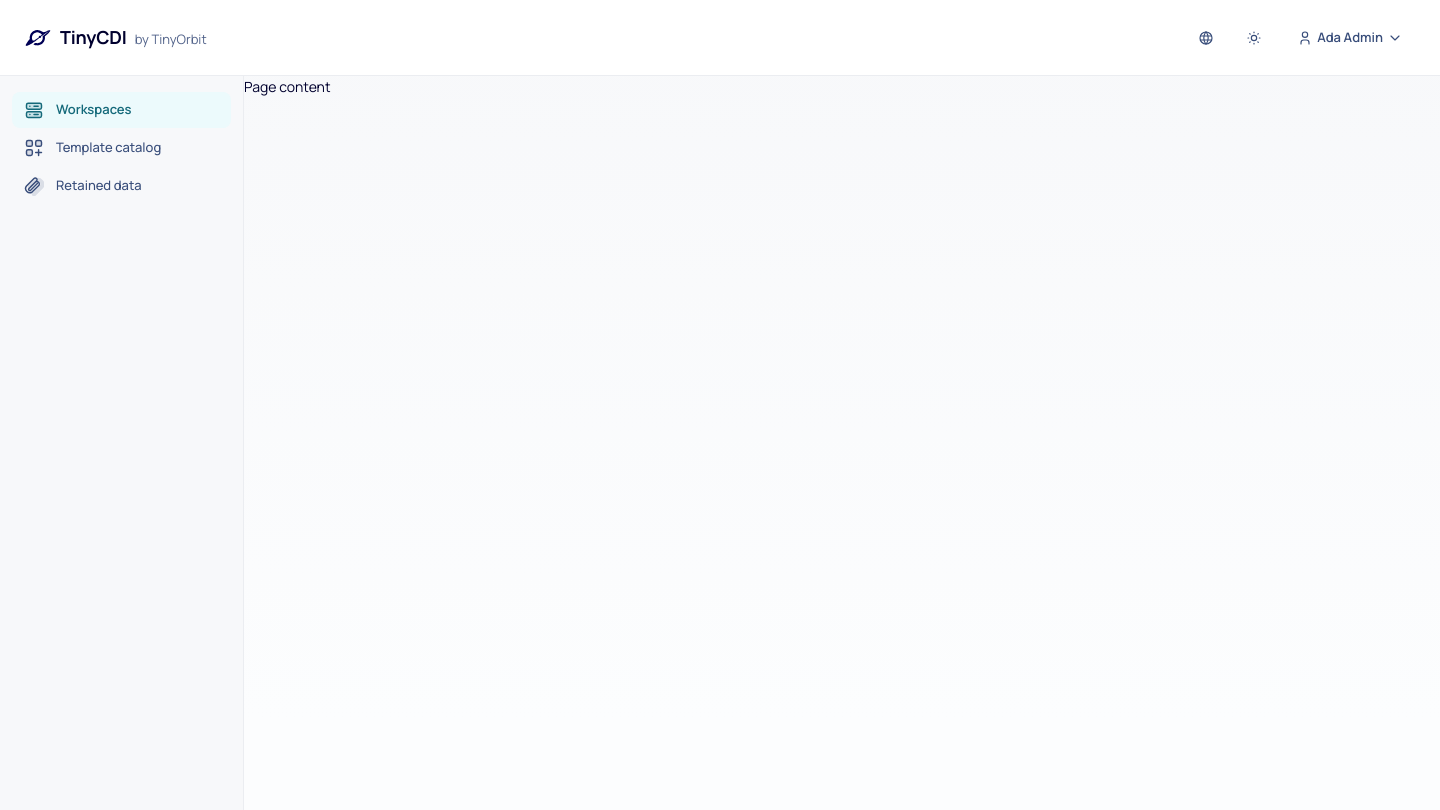
Test: user menu › a failed sign-out stays on the page and says so
Click the button "Ada Admin" at (1350, 38), box [1284,20,1416,56]
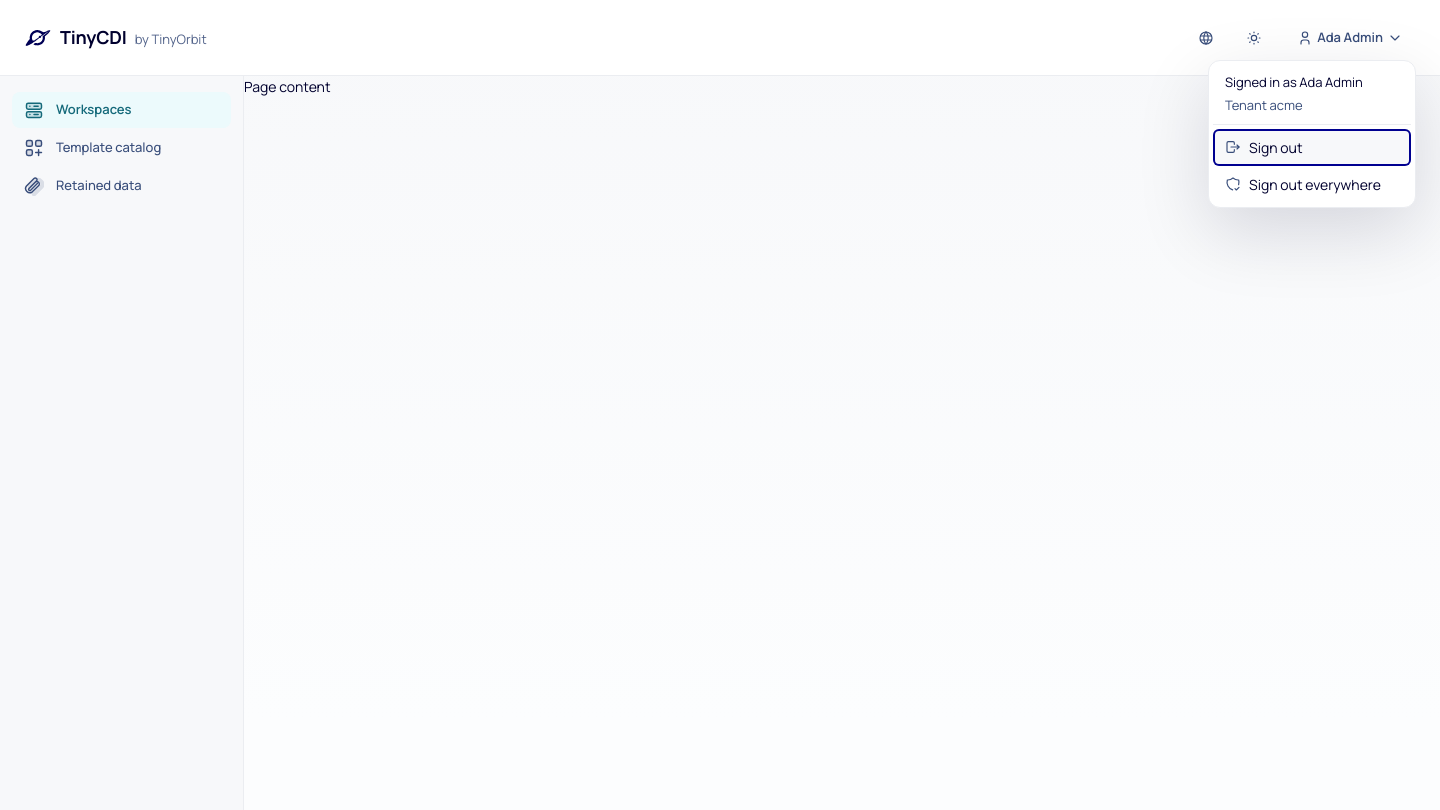
Click the menu item "Sign out" at (1312, 147), box [1213,128,1411,166]
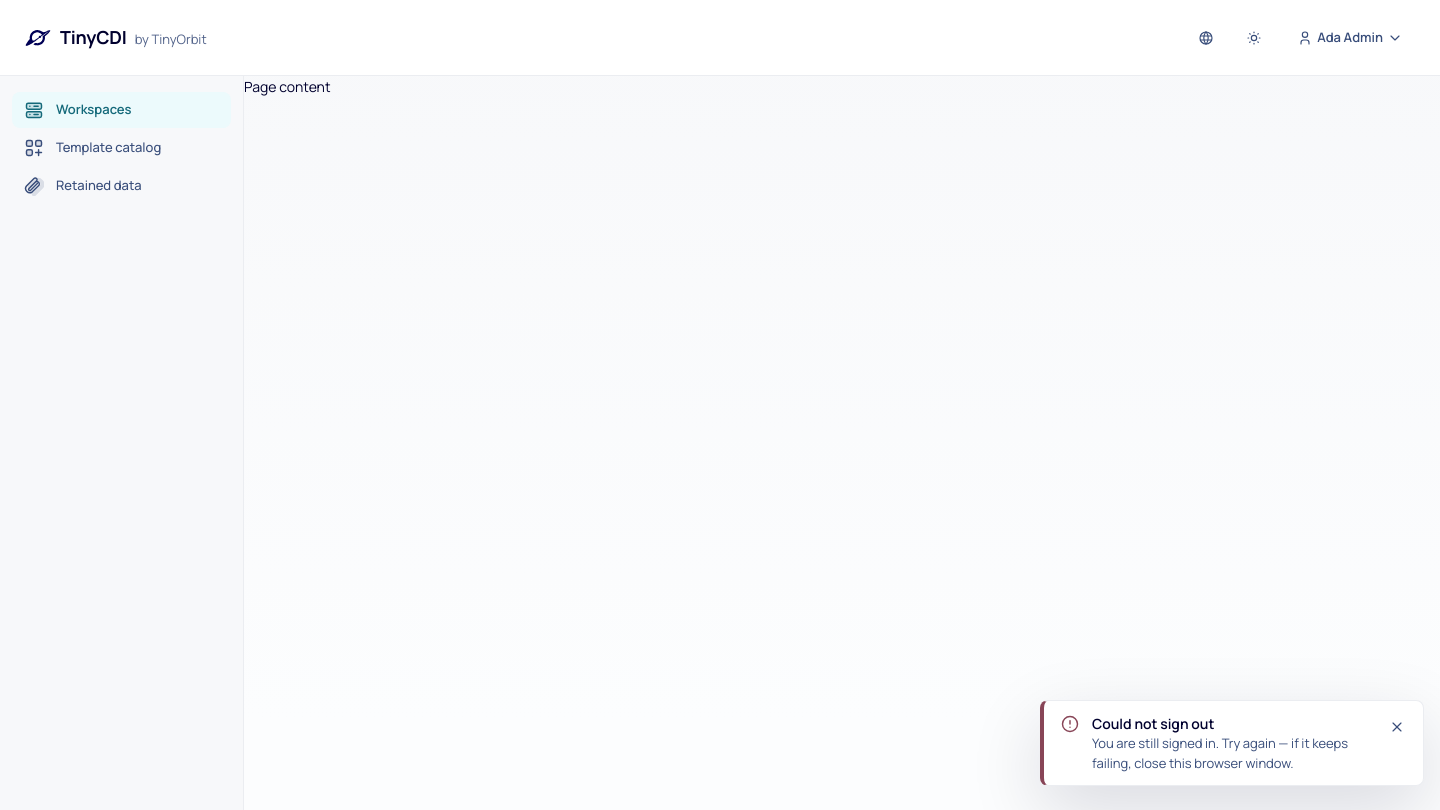
expect the text "Could not sign out" is shown: met, box [1092,714,1214,733]
